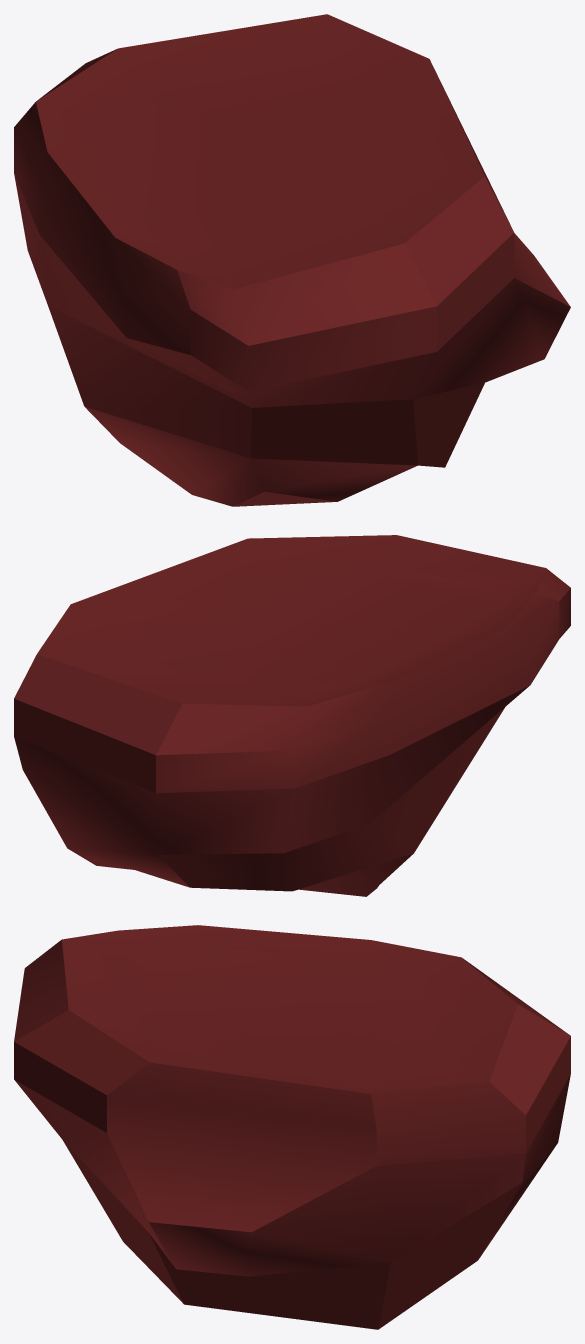
The model's file is ChubbyFloatEarth2.fbx.
3 renders of one model, top to bottom at view 1: azimuth 30°, elevation 25°; view 2: azimuth 150°, elevation 25°; view 3: azimuth 270°, elevation 25°, orthographic. The views are drawn at different scales.
Visible parts, largest first — view 1: ChubbyFloatEath2; view 2: ChubbyFloatEath2; view 3: ChubbyFloatEath2.
Part boxes in pixels (x1,y1,x2,y2): ChubbyFloatEath2: (14, 14, 570, 506); ChubbyFloatEath2: (14, 535, 570, 896); ChubbyFloatEath2: (14, 925, 570, 1329).
Bounding box in the file's own units: 741 × 942 × 498.
